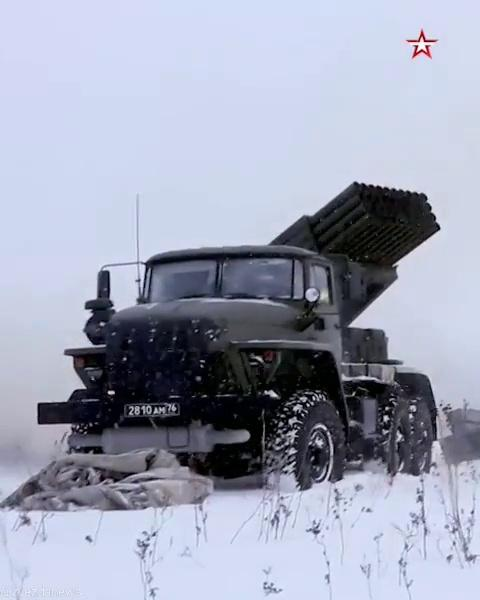MIL_SAM_TEL: (54, 179, 440, 499)
